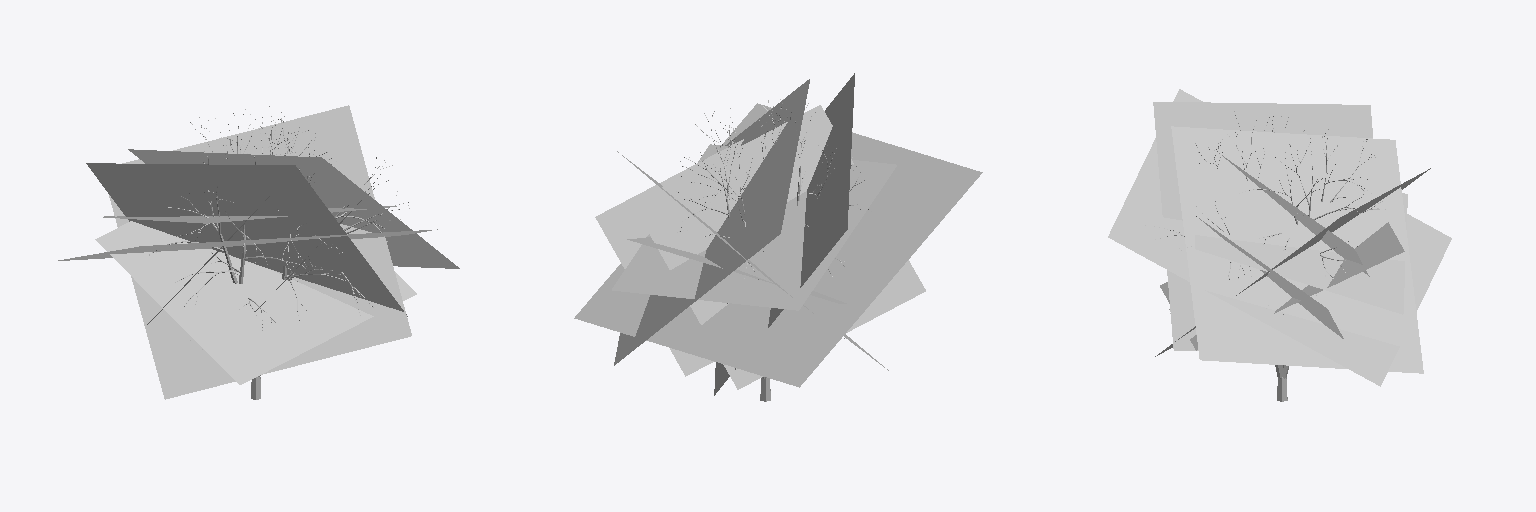
The model's file is tree_birch_nocurve.obj.
3 views of the same model, side by side, from view 1: azimuth 30°, elevation 25°; view 2: azimuth 150°, elevation 25°; view 3: azimuth 270°, elevation 25° (orthographic).
Visible parts, largest first — view 1: Plane.002, Plane, Plane.005, Plane.006, tree_tree.001, Plane.001, Plane.003; view 2: Plane.001, Plane.004, Plane.003, Plane.006, Plane.002, Plane.007, tree_tree.001, Plane; view 3: Plane.006, Plane.001, Plane.002, Plane.003, Plane, Plane.004, Plane.007, tree_tree.001, Plane.005.
Part boxes in pixels (x1,y1,x2,y2): Plane.002: (86, 163, 407, 316); Plane: (95, 221, 416, 384); Plane.005: (109, 105, 411, 399); Plane.006: (128, 149, 459, 268); tree_tree.001: (149, 106, 409, 399); Plane.001: (58, 229, 437, 260); Plane.003: (103, 206, 396, 223); Plane.001: (574, 103, 982, 387); Plane.004: (632, 105, 925, 389); Plane.003: (612, 144, 896, 310); Plane.006: (614, 79, 809, 365); Plane.002: (714, 73, 854, 395); Plane.007: (595, 139, 743, 376); tree_tree.001: (674, 99, 871, 401); Plane: (627, 237, 846, 303); Plane.006: (1171, 126, 1423, 373); Plane.001: (1108, 89, 1451, 386); Plane.002: (1153, 102, 1372, 350); Plane.003: (1195, 193, 1407, 314); Plane: (1160, 222, 1404, 350); Plane.004: (1219, 153, 1369, 276); Plane.007: (1199, 218, 1343, 338); tree_tree.001: (1145, 111, 1385, 401); Plane.005: (1155, 168, 1430, 356).
Bounding box in the file's own units: 19.95 × 16.52 × 18.07.